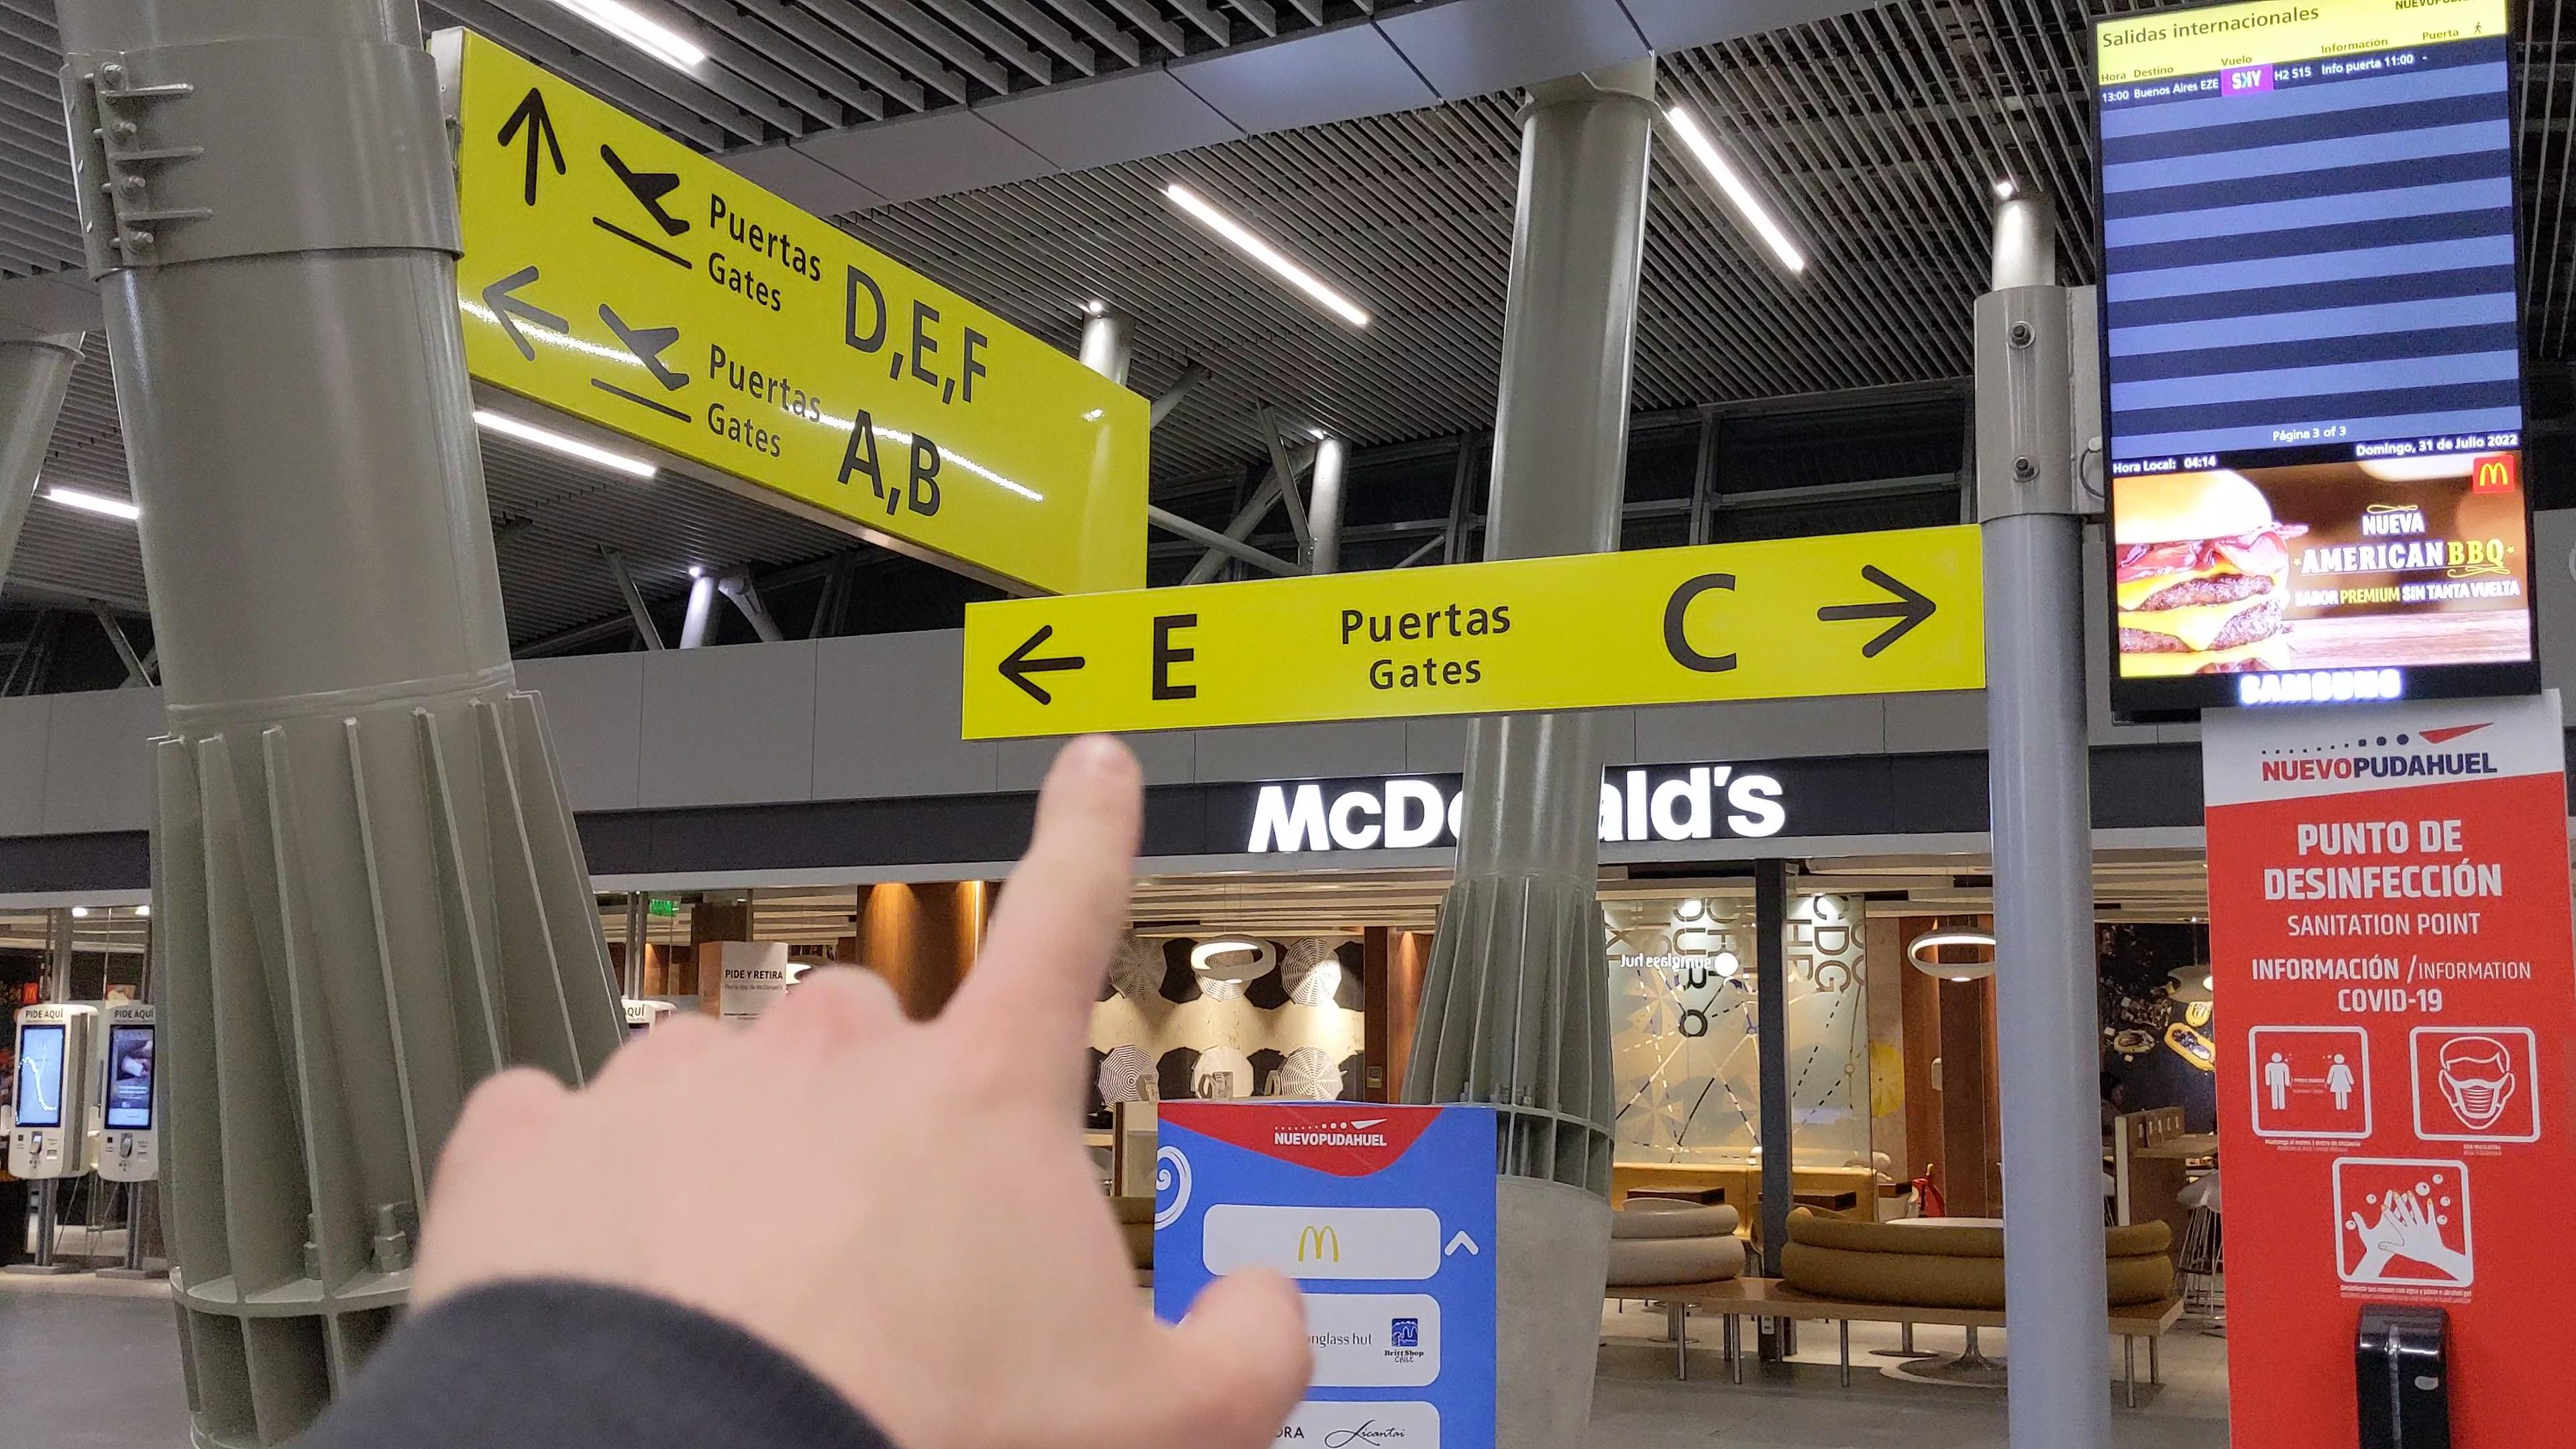airplane symbol: (594, 134, 697, 246), (591, 290, 695, 395)
thin left arrow: (478, 257, 577, 368), (994, 625, 1086, 708)
thin right arrow: (1813, 561, 1943, 663)
thin up arrow: (490, 80, 573, 211)
